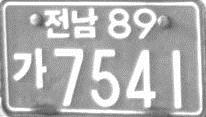1: (169, 47, 183, 110)
4: (124, 48, 157, 109)
5: (88, 48, 120, 108)
7: (52, 46, 84, 108)
8: (107, 7, 131, 40)
9: (133, 7, 157, 39)
가: (12, 46, 47, 89)
전남_O: (43, 7, 98, 39)
